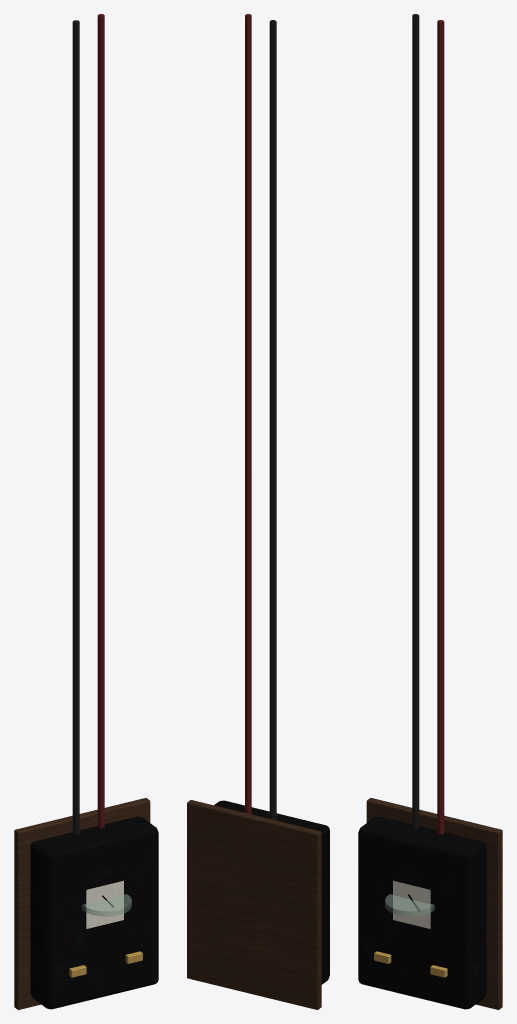
The model's file is electricMeter.glb.
3 views of the same model, side by side, from view 1: azimuth 30°, elevation 25°; view 2: azimuth 150°, elevation 25°; view 3: azimuth 330°, elevation 25° (orthographic).
Parts seen in each view (by area): view 1: electricMeter; view 2: electricMeter; view 3: electricMeter.
Boxes of the visible parts, x1,y1,x2,y2 form: electricMeter: (14, 14, 158, 1009); electricMeter: (187, 14, 329, 1009); electricMeter: (358, 14, 502, 1009).
Bounding box in the file's own units: 0.5301 × 3.74 × 0.2701.
8 materials, 4 textured.
